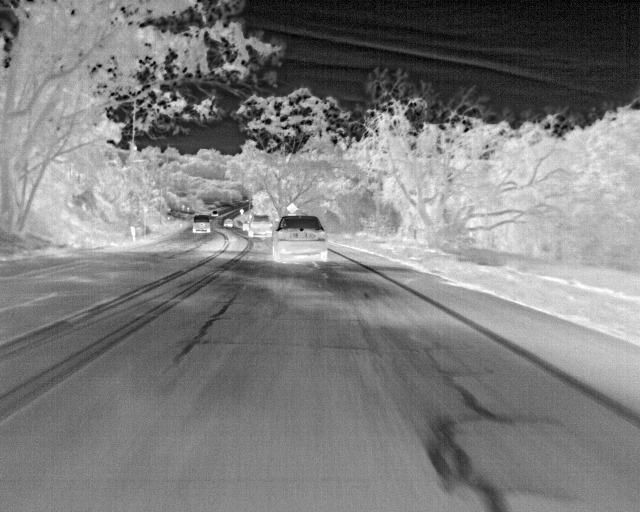vehicle: (272, 214, 328, 260), (249, 214, 273, 237), (192, 215, 210, 233), (224, 218, 234, 229)
